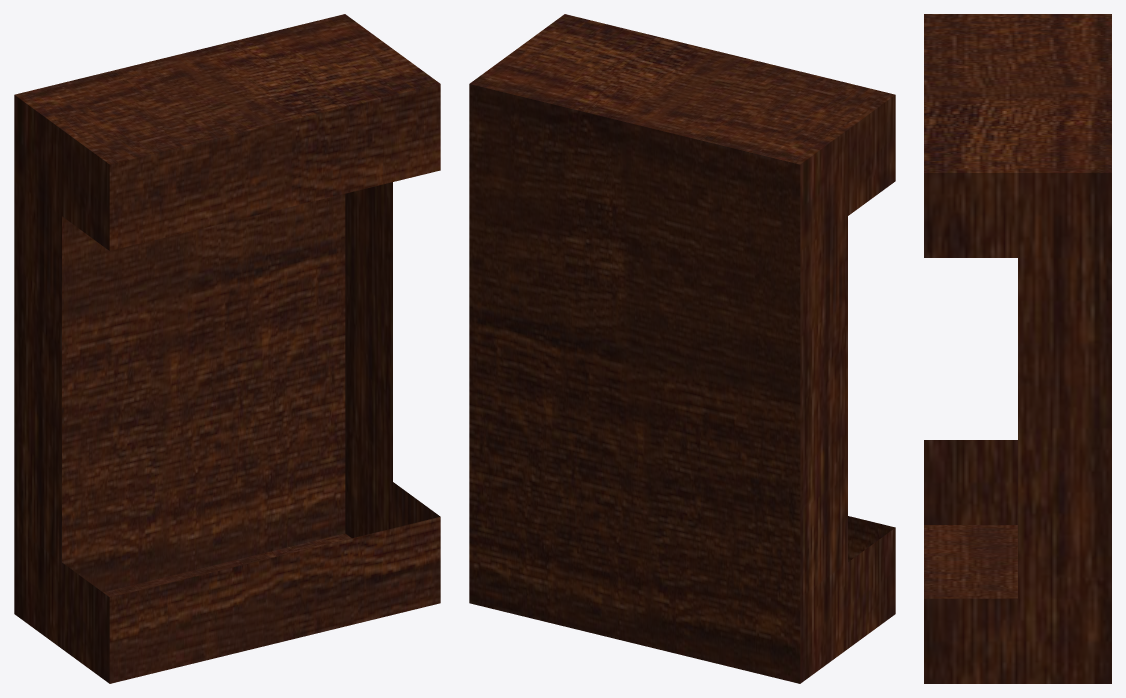
The model's file is border_unit.fbx.
3 views of the same model, side by side, from view 1: azimuth 30°, elevation 25°; view 2: azimuth 150°, elevation 25°; view 3: azimuth 270°, elevation 25° (orthographic).
Visible parts, largest first — view 1: border_unit; view 2: border_unit; view 3: border_unit.
Part boxes in pixels (box(x1,y1,x2,y2)): border_unit: box(14, 14, 440, 683); border_unit: box(469, 14, 895, 683); border_unit: box(924, 14, 1111, 683).
Size of the model in its own units: 40 by 60 by 20.
